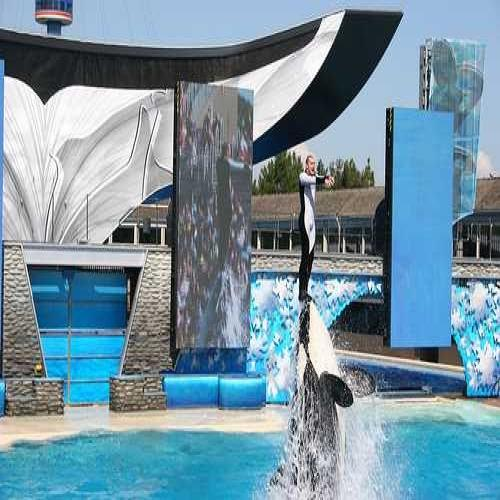killer_whale-endangered: (274, 294, 366, 500)
